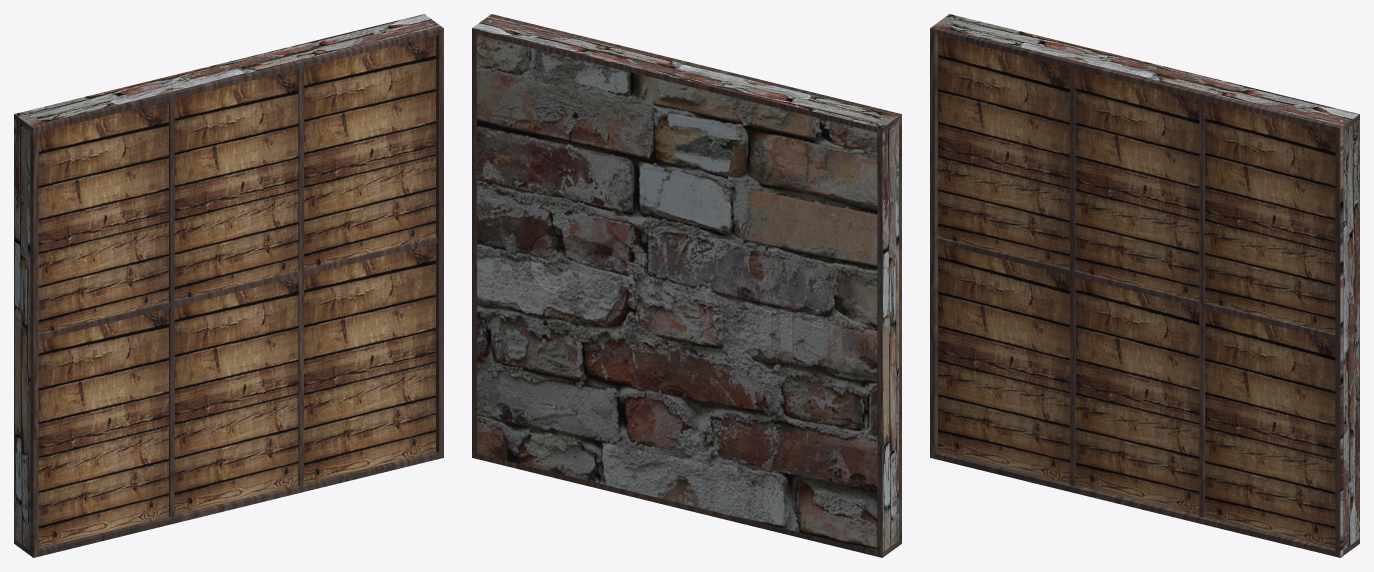
File: HallwayWall.FBX
3 views of the same model, side by side, from view 1: azimuth 30°, elevation 25°; view 2: azimuth 150°, elevation 25°; view 3: azimuth 330°, elevation 25° (orthographic).
Parts seen in each view (by area): view 1: Box001; view 2: Box001; view 3: Box001.
Part boxes in pixels (x1,y1,x2,y2): Box001: (14, 14, 443, 557); Box001: (472, 14, 901, 557); Box001: (930, 14, 1359, 557).
Size of the model in its own units: 39.37 by 39.37 by 3.24.
